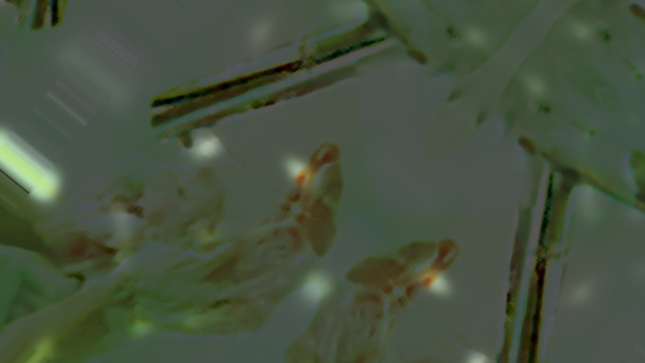washing hand: (0, 0, 484, 362)
